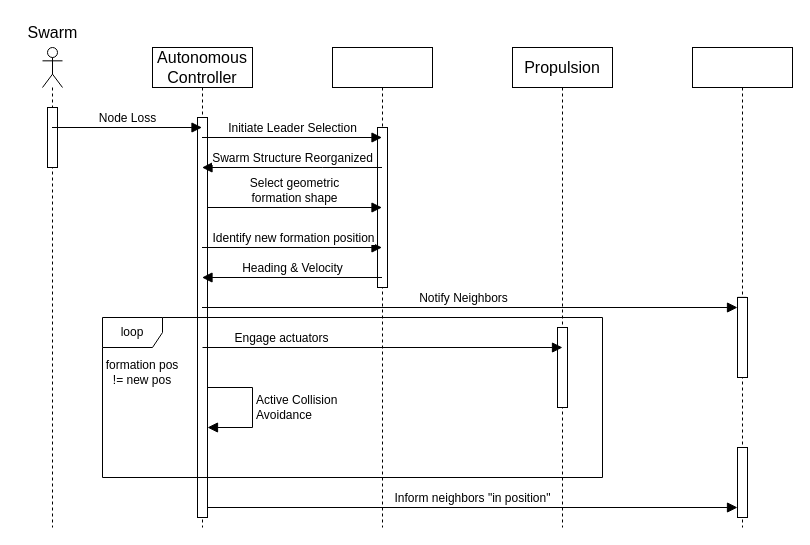
The diagram is 810 pixels wide and 545 high, and some of its shapes have lost their labels. The shapes that lost their labels are listed below. From the top down, each one's box as (x1, y1, x2, y2) in pixels, then its label:
(332, 46, 432, 528): Formation Coordination System
(692, 46, 792, 528): Comms
